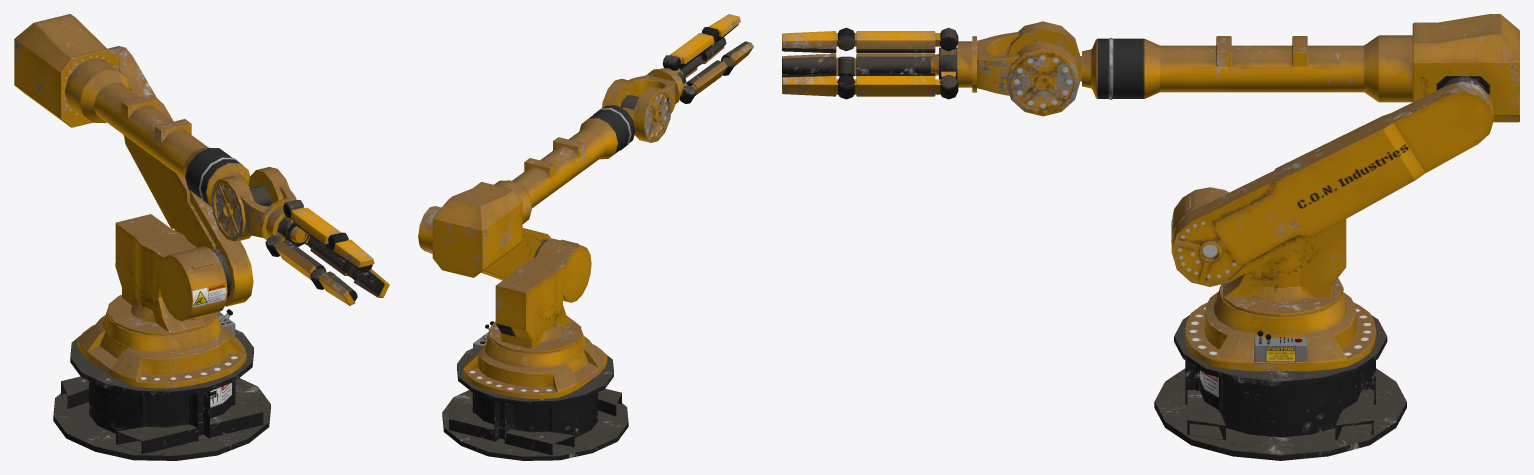
The picture shows the model from 3 angles, left to right: view 1: azimuth 30°, elevation 25°; view 2: azimuth 150°, elevation 25°; view 3: azimuth 270°, elevation 25°; orthographic projection. The views are drawn at different scales.
Parts seen in each view (by area): view 1: Base, RotatingArm, ArmBase, Arm1, Joint, Palm, Wrist, Digit, Digit5, Digit1, Digit4, Digit2 (+1 smaller); view 2: Base, ArmBase, RotatingArm, Joint, Arm1, Wrist, Digit, Palm, Digit5, Digit1, Digit4; view 3: Base, Arm1, RotatingArm, Joint, ArmBase, Wrist, Palm, Digit3, Digit, Digit5, Digit2, Digit1 (+1 smaller).
Boxes of the visible parts, x1,y1,x2,y2 form: Base: [53, 308, 270, 460]; RotatingArm: [65, 59, 290, 241]; ArmBase: [108, 214, 227, 335]; Arm1: [108, 46, 253, 306]; Joint: [14, 14, 119, 127]; Palm: [265, 200, 310, 256]; Wrist: [240, 185, 296, 240]; Digit: [290, 207, 340, 249]; Digit5: [274, 239, 326, 280]; Digit1: [333, 239, 374, 271]; Digit4: [318, 271, 357, 305]; Digit2: [351, 267, 389, 297]; Base: [442, 321, 628, 460]; ArmBase: [489, 238, 591, 353]; RotatingArm: [494, 79, 671, 223]; Joint: [432, 182, 522, 277]; Arm1: [418, 206, 551, 280]; Wrist: [629, 69, 681, 113]; Digit: [670, 33, 714, 68]; Palm: [661, 55, 695, 103]; Digit5: [686, 60, 727, 95]; Digit1: [708, 14, 740, 41]; Digit4: [721, 41, 753, 66]; Base: [1154, 284, 1406, 460]; Arm1: [1171, 76, 1493, 286]; RotatingArm: [1006, 21, 1412, 116]; Joint: [1412, 14, 1519, 122]; ArmBase: [1171, 187, 1346, 317]; Wrist: [972, 32, 1019, 95]; Palm: [931, 27, 972, 99]; Digit3: [854, 73, 940, 96]; Digit: [854, 31, 940, 53]; Digit5: [854, 53, 938, 75]; Digit2: [782, 73, 838, 96]; Digit1: [782, 31, 838, 53].
Size of the model in its own units: 2.6 by 4.26 by 7.58.
1 material, 1 textured.
